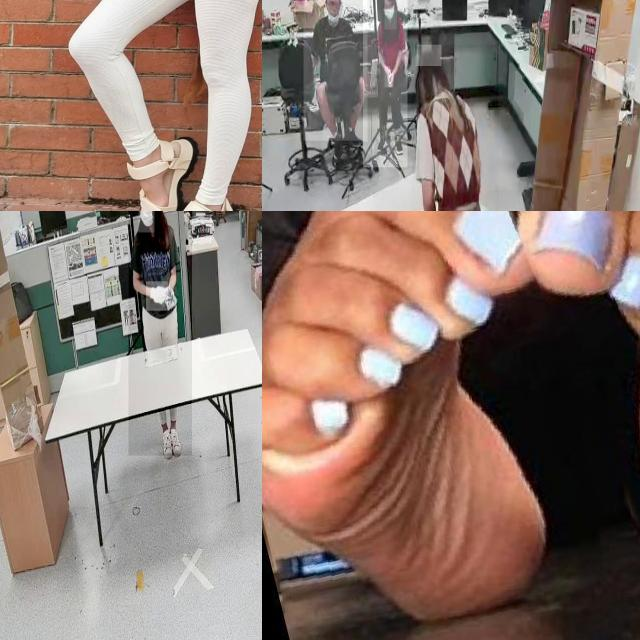Barefoots: (262, 211, 574, 640)
Sandals: (119, 135, 197, 211)
face_mask: (384, 0, 397, 29), (138, 211, 155, 233)
hand_glove: (146, 281, 168, 311)
hand_noglove: (385, 66, 391, 88), (388, 70, 394, 88)
head_nohelmet: (416, 45, 442, 67)
person: (128, 211, 192, 456), (411, 44, 498, 211), (303, 0, 367, 141), (363, 0, 408, 168)
shoes: (168, 421, 184, 458), (345, 124, 365, 153), (160, 425, 174, 462), (330, 134, 346, 162)
